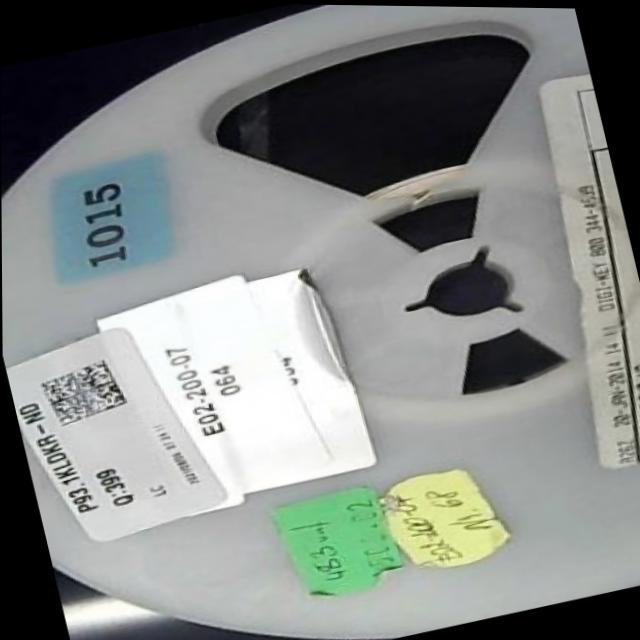datamatrix: (36, 354, 131, 431)
